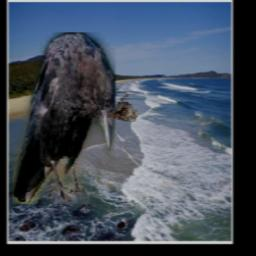Crow: (12, 33, 115, 205)
Sparrow: (107, 94, 138, 123)
